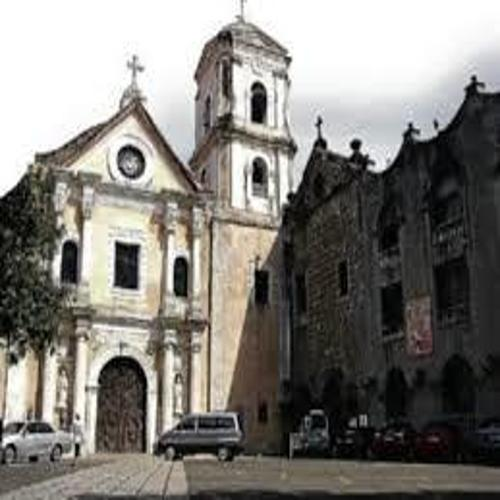San Agustin Church: (35, 1, 307, 466)
